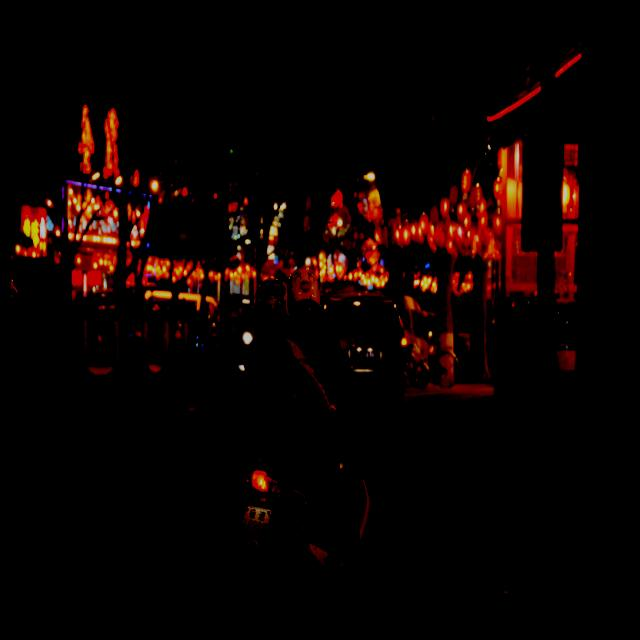Motorbike: (233, 366, 379, 619)
